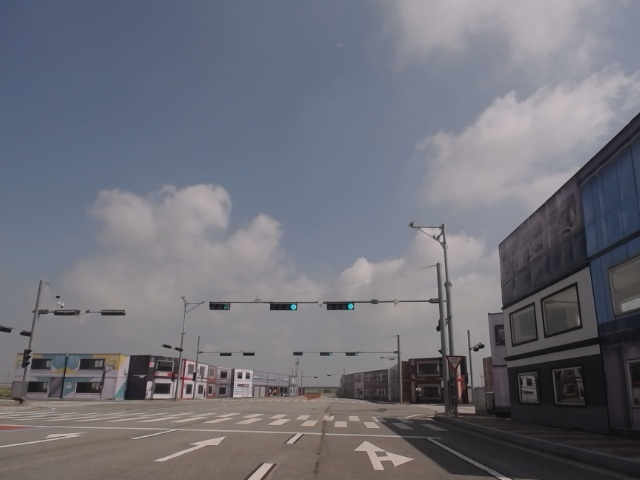straight_green_4: (269, 303, 299, 311), (327, 303, 354, 310)
